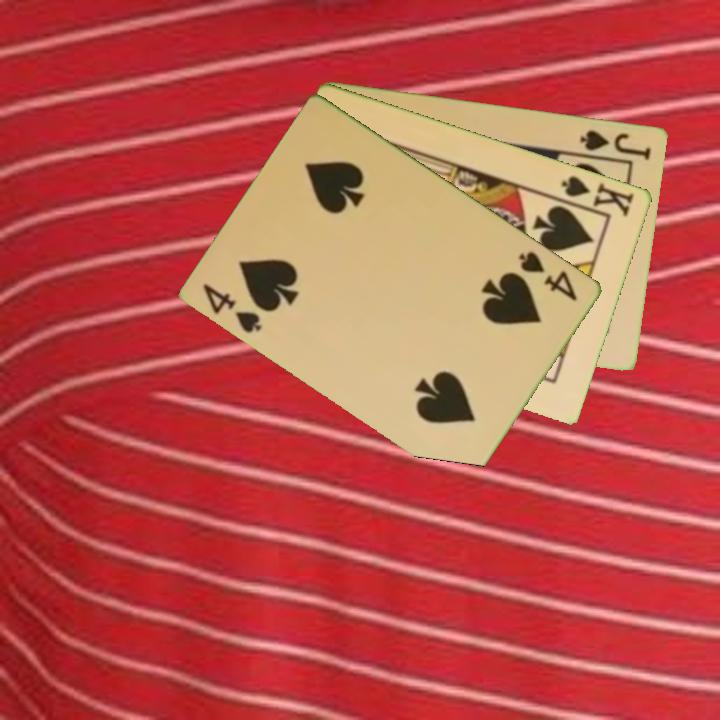4s: (199, 279, 266, 336), (515, 247, 581, 304)
Js: (576, 126, 654, 163)
Ks: (554, 172, 637, 219)
